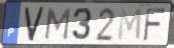2: (95, 6, 117, 42)
3: (71, 7, 94, 42)
F: (141, 7, 167, 43)
M: (43, 7, 72, 41), (116, 7, 143, 42)
V: (23, 6, 46, 43)
